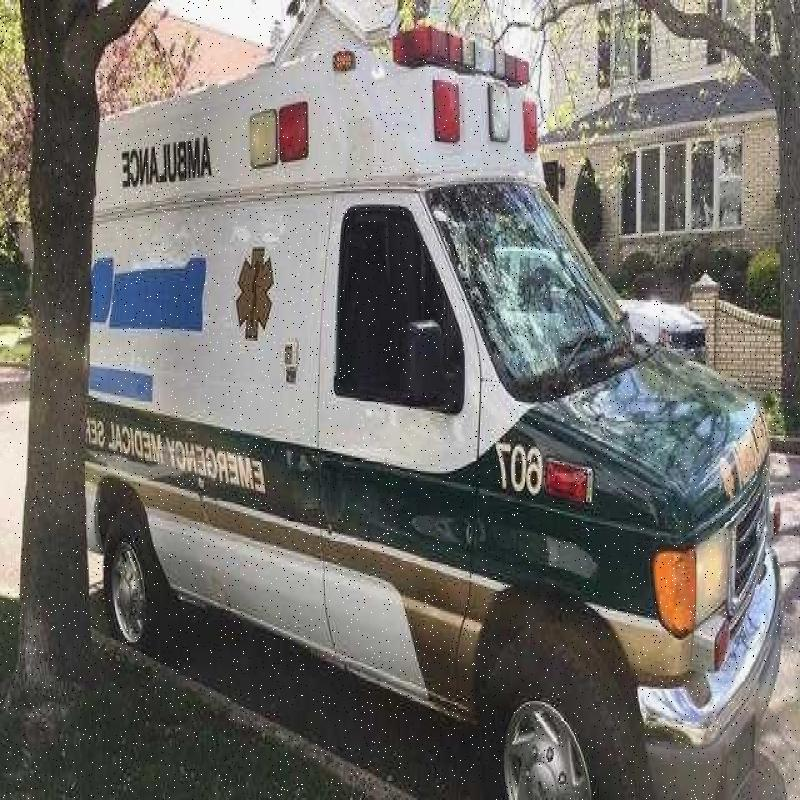AmbulanceSiren: (392, 33, 542, 91)
